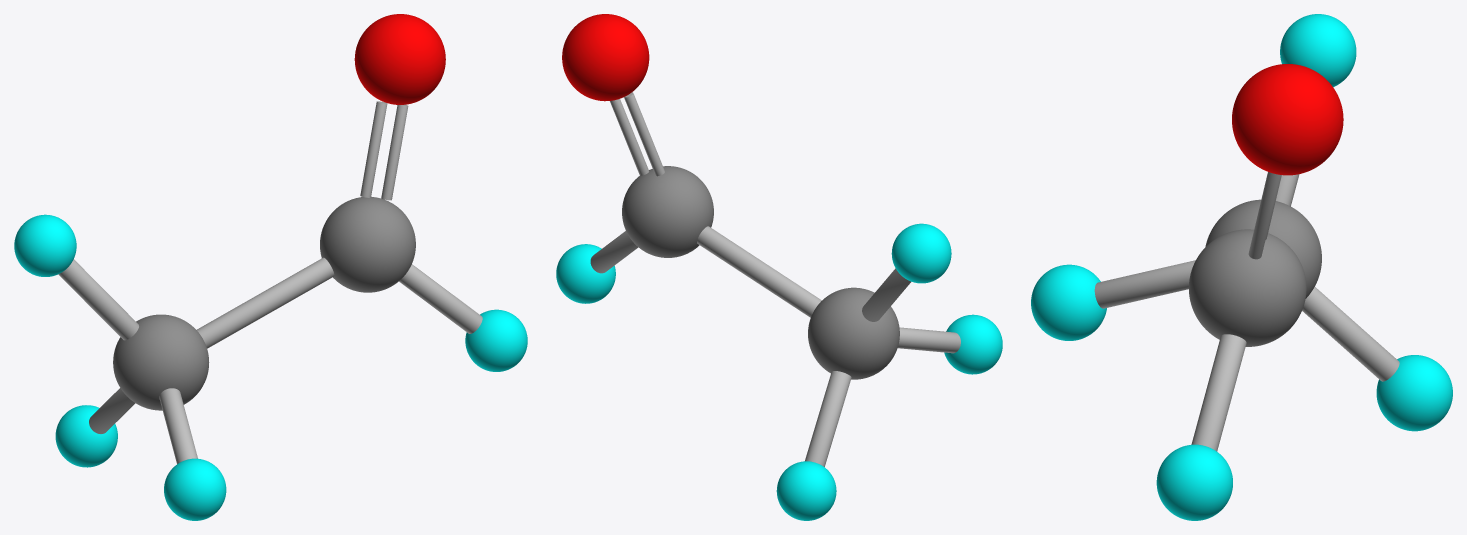
The model's file is acetaldehyde.glb.
The picture shows the model from 3 angles, left to right: view 1: azimuth 30°, elevation 25°; view 2: azimuth 150°, elevation 25°; view 3: azimuth 270°, elevation 25°; orthographic projection. The views are drawn at different scales.
Parts seen in each view (by area): view 1: CMAtom_1, CMAtom_0, CMAtom_6, CMBond_1_Segment_0, CMAtom_3, CMAtom_2, CMAtom_5, CMAtom_4, CMBond_3_Segment_0, CMBond_5_Segment_0, CMBond_2_Segment_0, CMBond_7_Segment_0 (+2 smaller); view 2: CMAtom_1, CMAtom_0, CMAtom_6, CMBond_1_Segment_0, CMAtom_2, CMAtom_4, CMAtom_3, CMAtom_5, CMBond_4_Segment_0, CMBond_2_Segment_0, CMBond_3_Segment_0, CMBond_5_Segment_0 (+2 smaller); view 3: CMAtom_1, CMAtom_6, CMAtom_5, CMAtom_4, CMAtom_3, CMAtom_2, CMAtom_0, CMBond_5_Segment_0, CMBond_4_Segment_0, CMBond_2_Segment_0, CMBond_6_Segment_0, CMBond_3_Segment_0.
Boxes of the visible parts, box(x1,y1,x2,y2) form: CMAtom_1: box(320, 196, 415, 292); CMAtom_0: box(113, 314, 209, 410); CMAtom_6: box(354, 14, 445, 104); CMBond_1_Segment_0: box(197, 257, 334, 348); CMAtom_3: box(164, 458, 226, 520); CMAtom_2: box(14, 214, 76, 276); CMAtom_5: box(465, 309, 527, 371); CMAtom_4: box(55, 405, 117, 467); CMBond_3_Segment_0: box(58, 259, 138, 340); CMBond_5_Segment_0: box(399, 264, 482, 333); CMBond_2_Segment_0: box(159, 388, 197, 463); CMBond_7_Segment_0: box(360, 101, 387, 197); CMAtom_1: box(622, 166, 713, 257); CMAtom_0: box(808, 287, 899, 379); CMAtom_6: box(562, 14, 649, 101); CMBond_1_Segment_0: box(697, 226, 821, 317); CMAtom_2: box(891, 223, 951, 283); CMAtom_4: box(776, 461, 836, 520); CMAtom_3: box(944, 314, 1002, 374); CMAtom_5: box(556, 244, 615, 303); CMBond_4_Segment_0: box(805, 371, 851, 466); CMBond_2_Segment_0: box(898, 327, 960, 353); CMBond_3_Segment_0: box(862, 268, 910, 321); CMBond_5_Segment_0: box(590, 231, 638, 273); CMAtom_1: box(1189, 229, 1306, 346); CMAtom_6: box(1232, 64, 1343, 175); CMAtom_5: box(1156, 444, 1232, 520); CMAtom_4: box(1376, 355, 1452, 431); CMAtom_3: box(1031, 264, 1106, 340); CMAtom_2: box(1280, 14, 1356, 87); CMAtom_0: box(1205, 199, 1321, 298); CMBond_5_Segment_0: box(1191, 334, 1246, 451); CMBond_4_Segment_0: box(1302, 287, 1399, 381); CMBond_2_Segment_0: box(1094, 260, 1195, 308); CMBond_6_Segment_0: box(1248, 172, 1280, 259); CMBond_3_Segment_0: box(1276, 174, 1299, 206).
Bounding box in the file's own units: 3.37 × 2.97 × 2.21.
